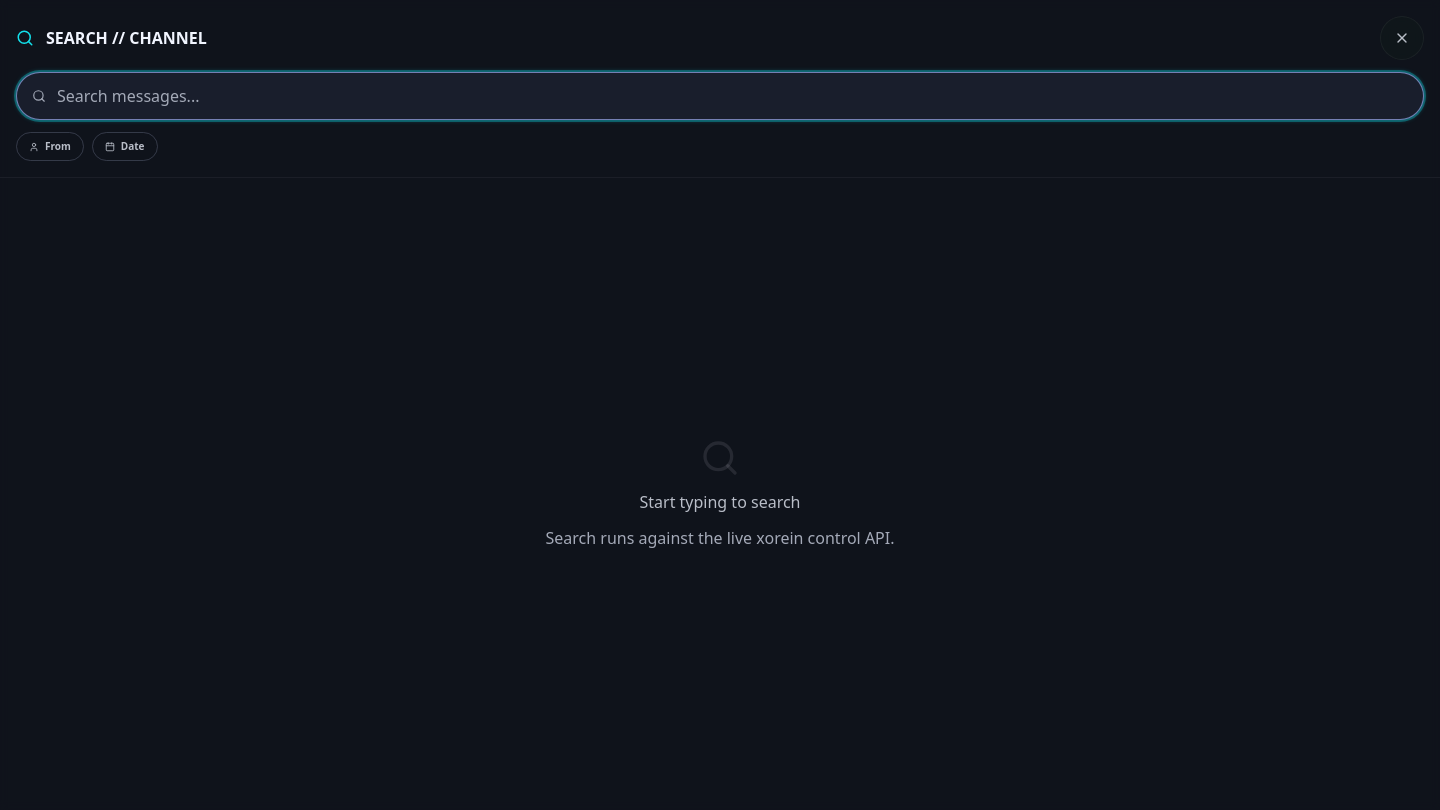
Test: SearchPanel › collapses duplicate user ids before rendering the From filter list
Type "runtime" into the field with placeholder "Search messages...". click: (720, 96)
box: [16,72,1424,120]
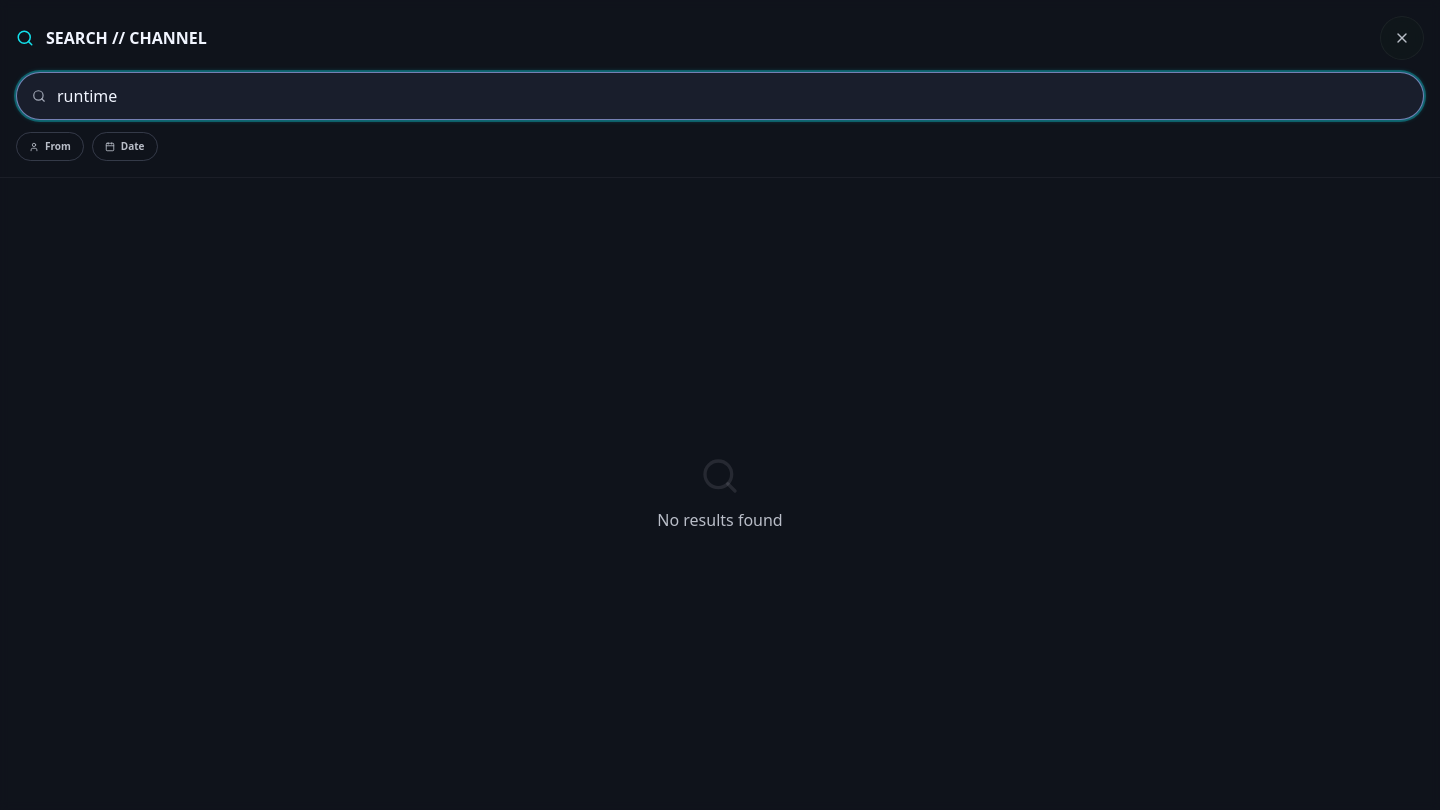
Click the button "From". click: click(50, 146)
box: [16,132,84,161]
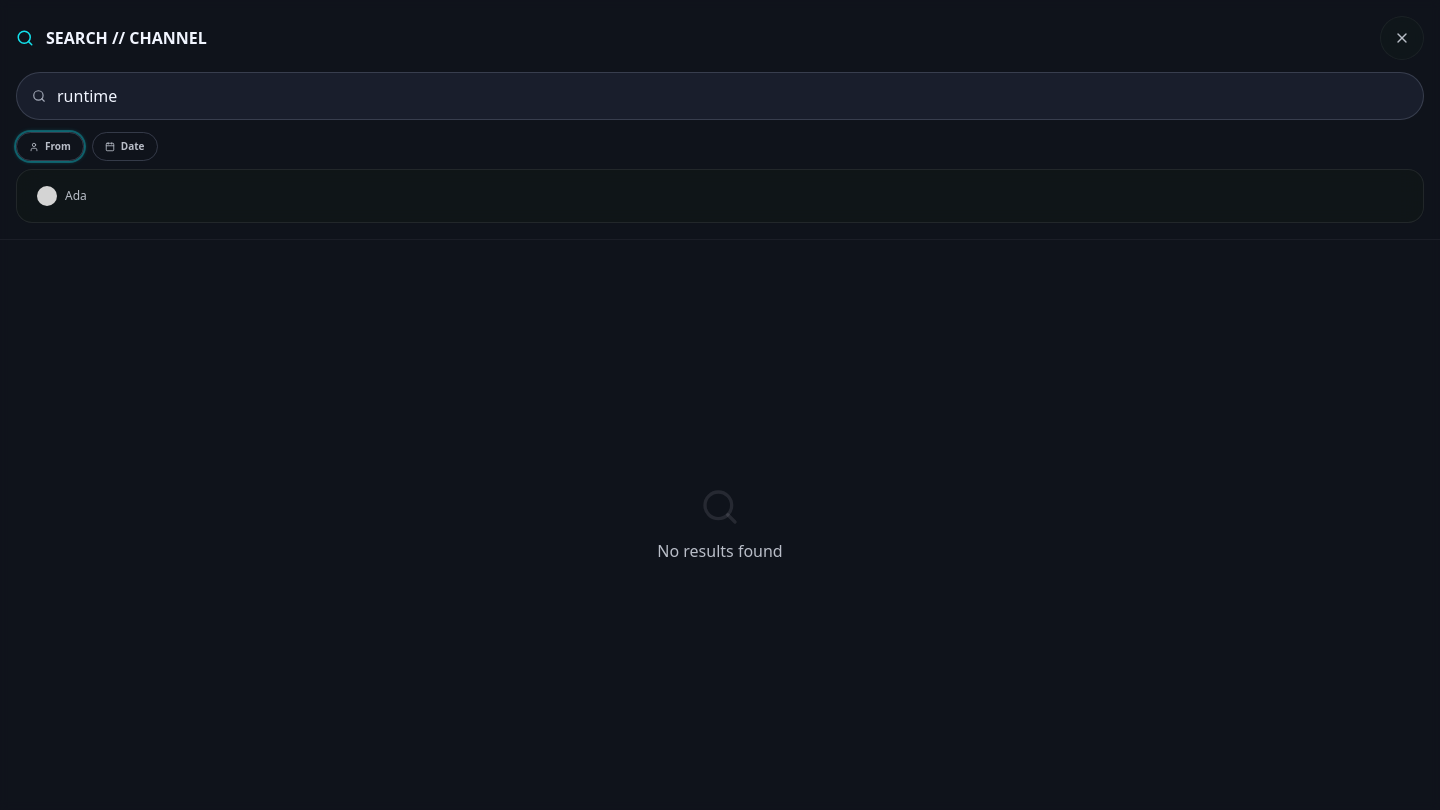
Check: the number of buttons "Ada" is 1, box [25,178,1415,214]
